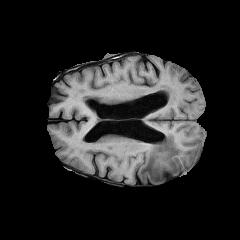glioma: (141, 133, 181, 181)
